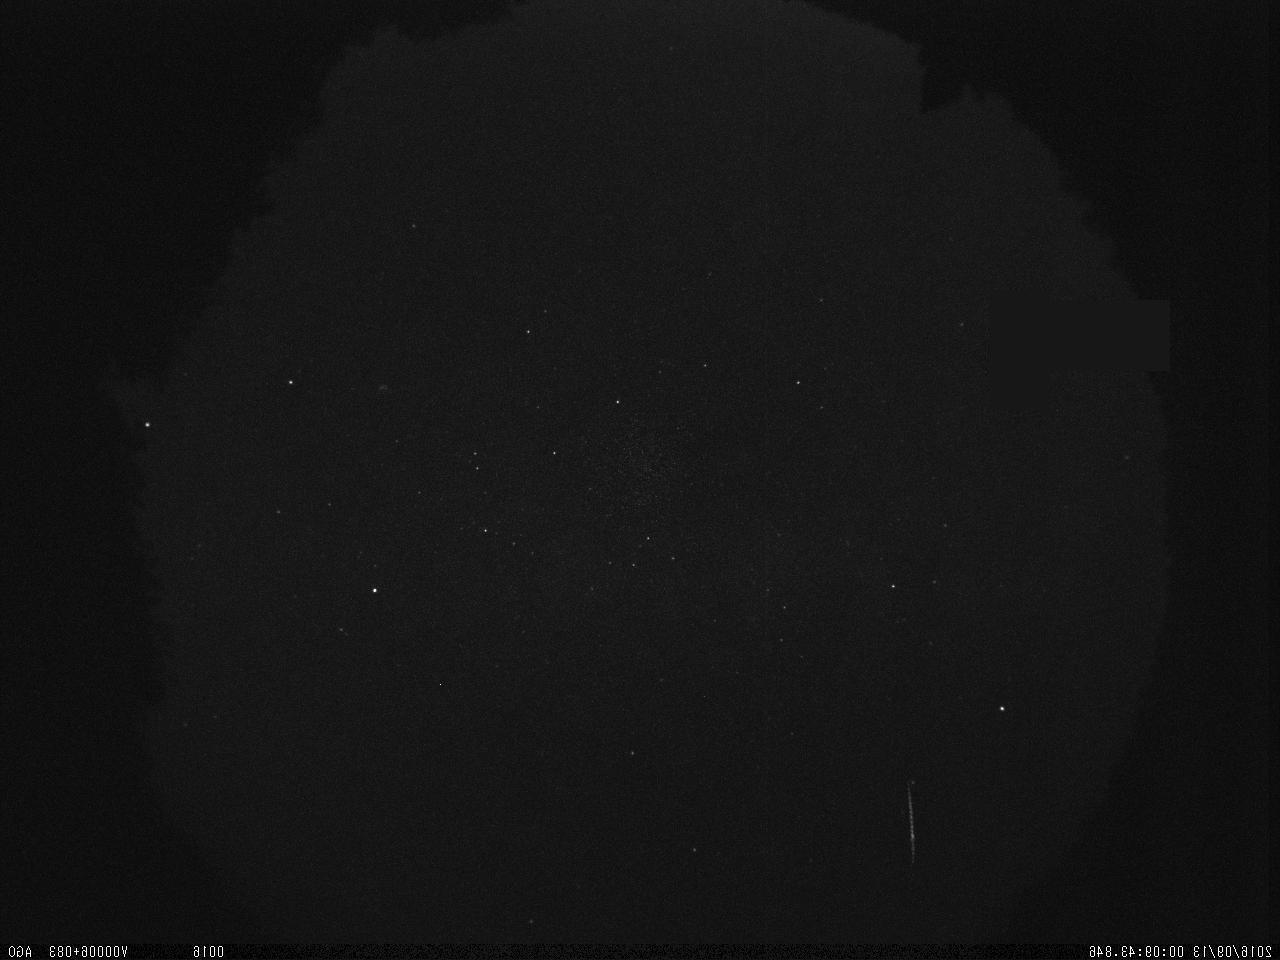meteor: (889, 779, 930, 874)
